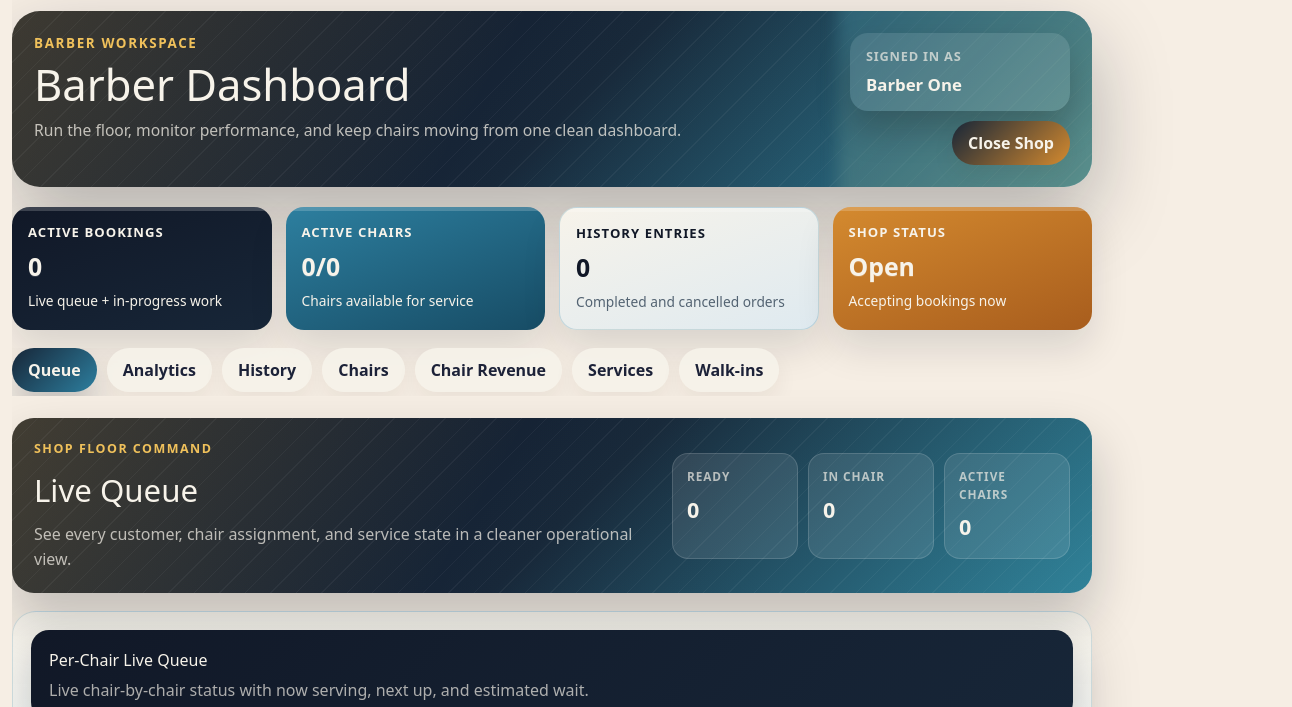
Test case: BarberDashboard navigation › shows a friendly analytics error when analytics loading fails
Click the button "Analytics" at (159, 370), box left=107, top=348, right=212, bottom=392
(page scrolled)
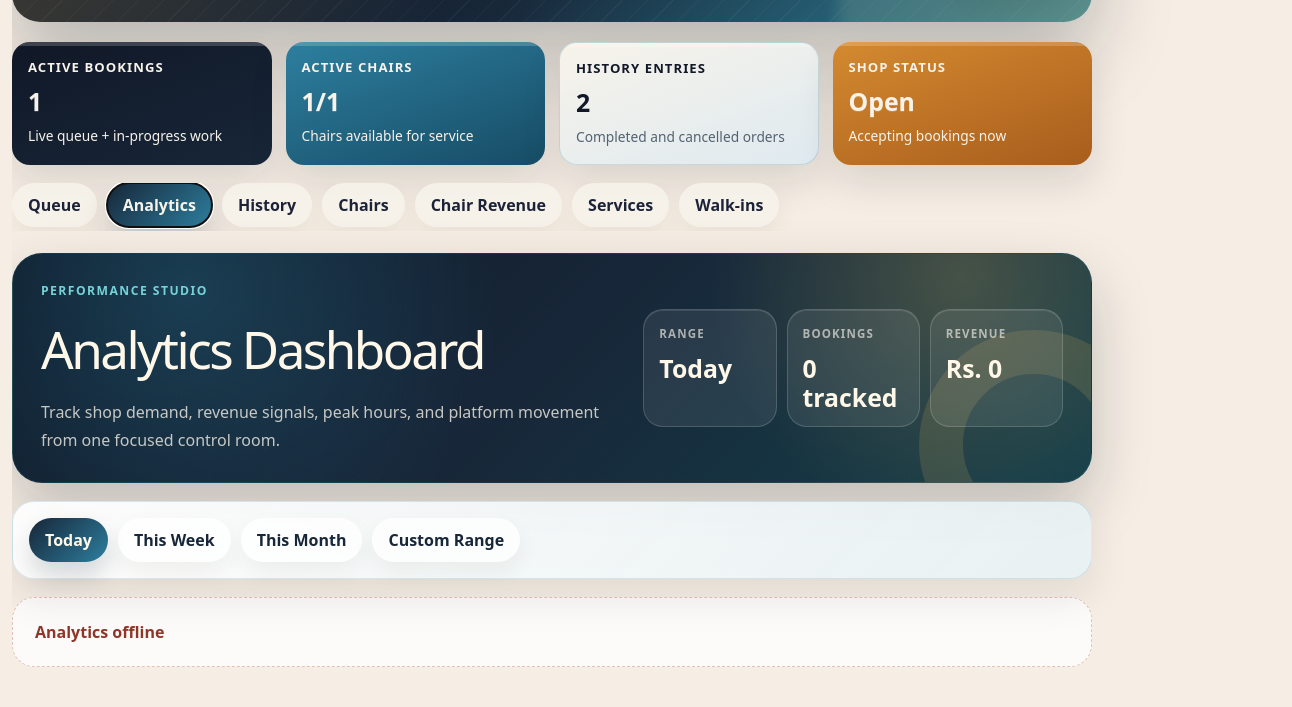
expect the text "Analytics offline" is shown: met, box left=12, top=597, right=1092, bottom=667
